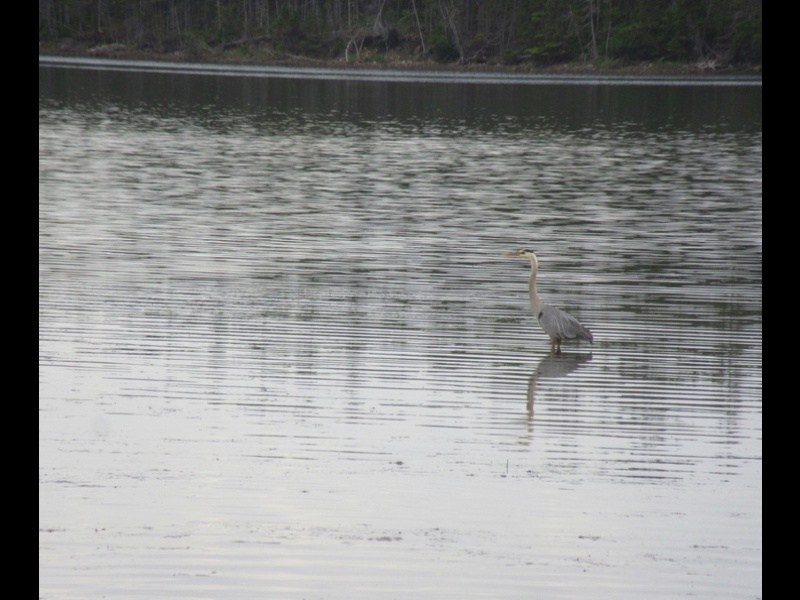heron: (502, 244, 595, 357)
